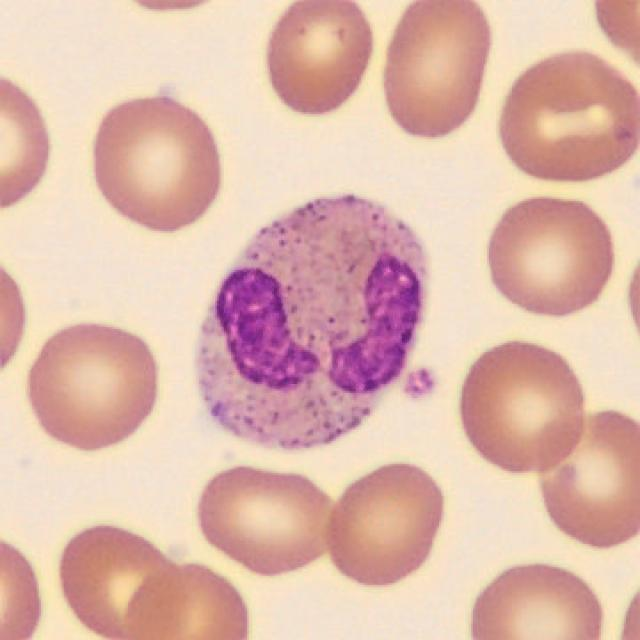Neutrofilo segmentado: (197, 196, 427, 448)
